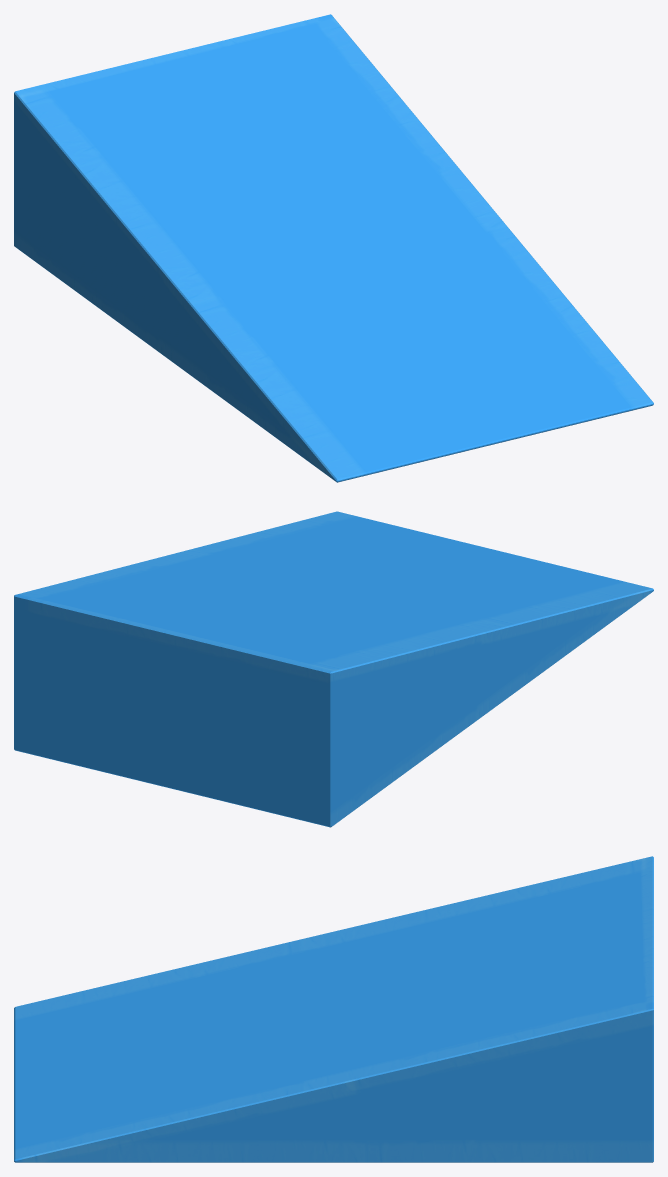
The model's file is PLF0110018.fbx.
3 renders of one model, top to bottom at view 1: azimuth 30°, elevation 25°; view 2: azimuth 150°, elevation 25°; view 3: azimuth 270°, elevation 25°, orthographic.
Visible parts, largest first — view 1: smPLF0110018; view 2: smPLF0110018; view 3: smPLF0110018.
Boxes of the visible parts, x1,y1,x2,y2 form: smPLF0110018: (14,14,653,482); smPLF0110018: (14,511,653,827); smPLF0110018: (14,856,653,1162).
Size of the model in its own units: 234 by 109 by 411.
1 material, 1 textured.
